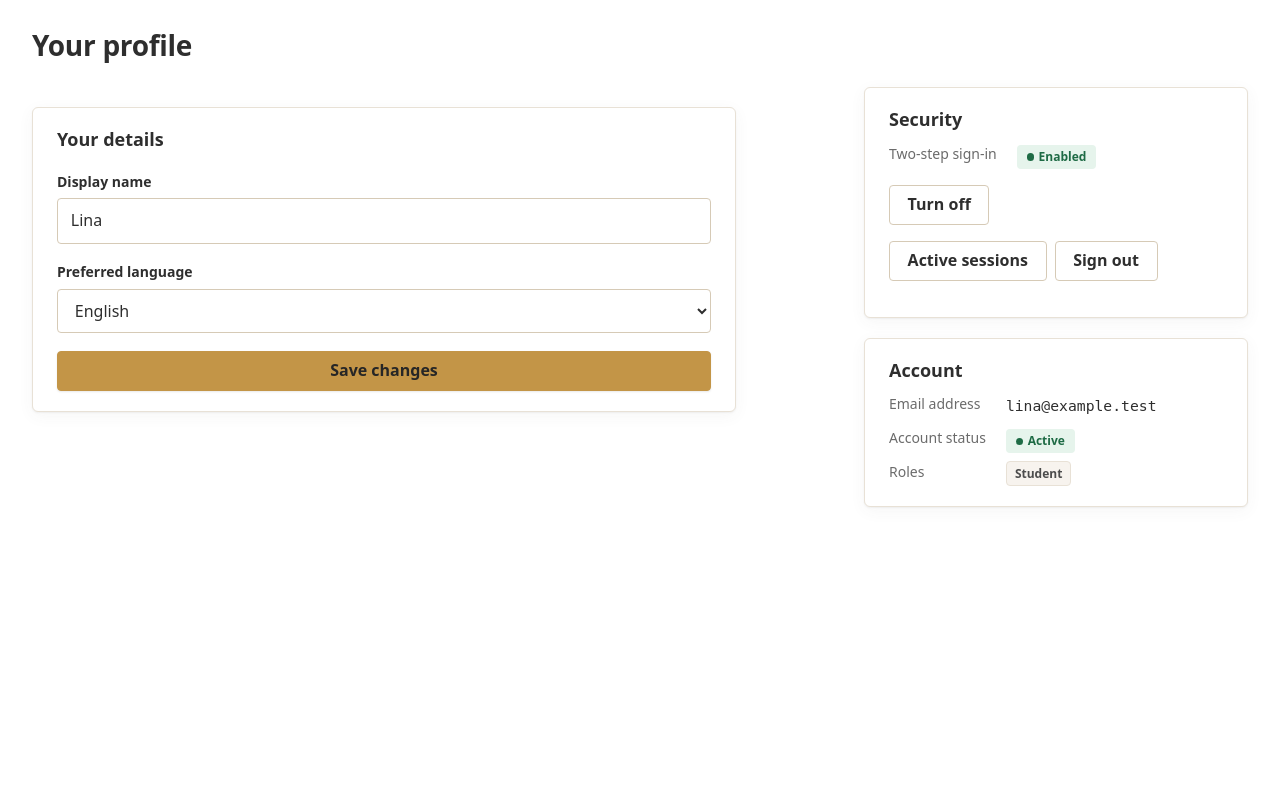
Test case: turning off two-step sign-in › still says it worked when the re-read fails, without guessing the state
Click the button with aria-label "Turn off two-step sign-in": (939, 205) [889,185,989,225]
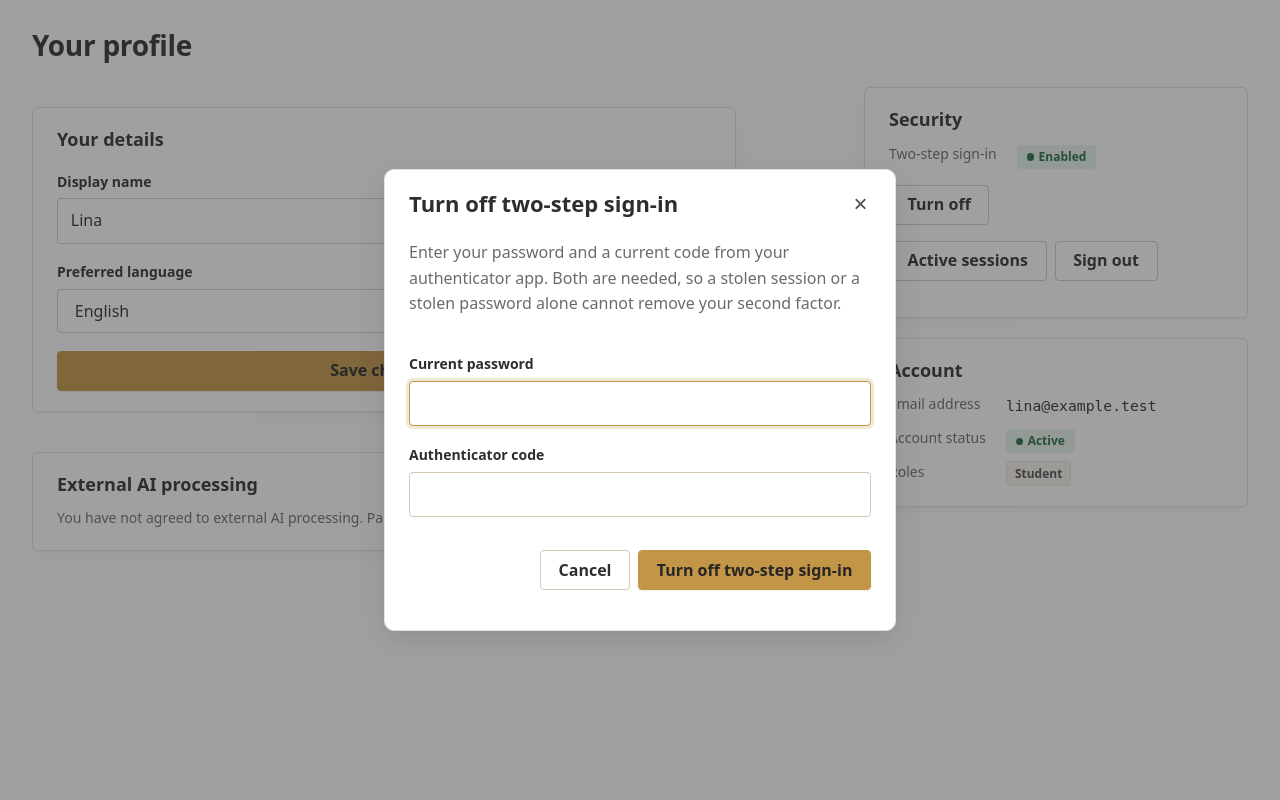
In the password field labelled "Current password": (640, 403) [409,381,871,426], type "my password"
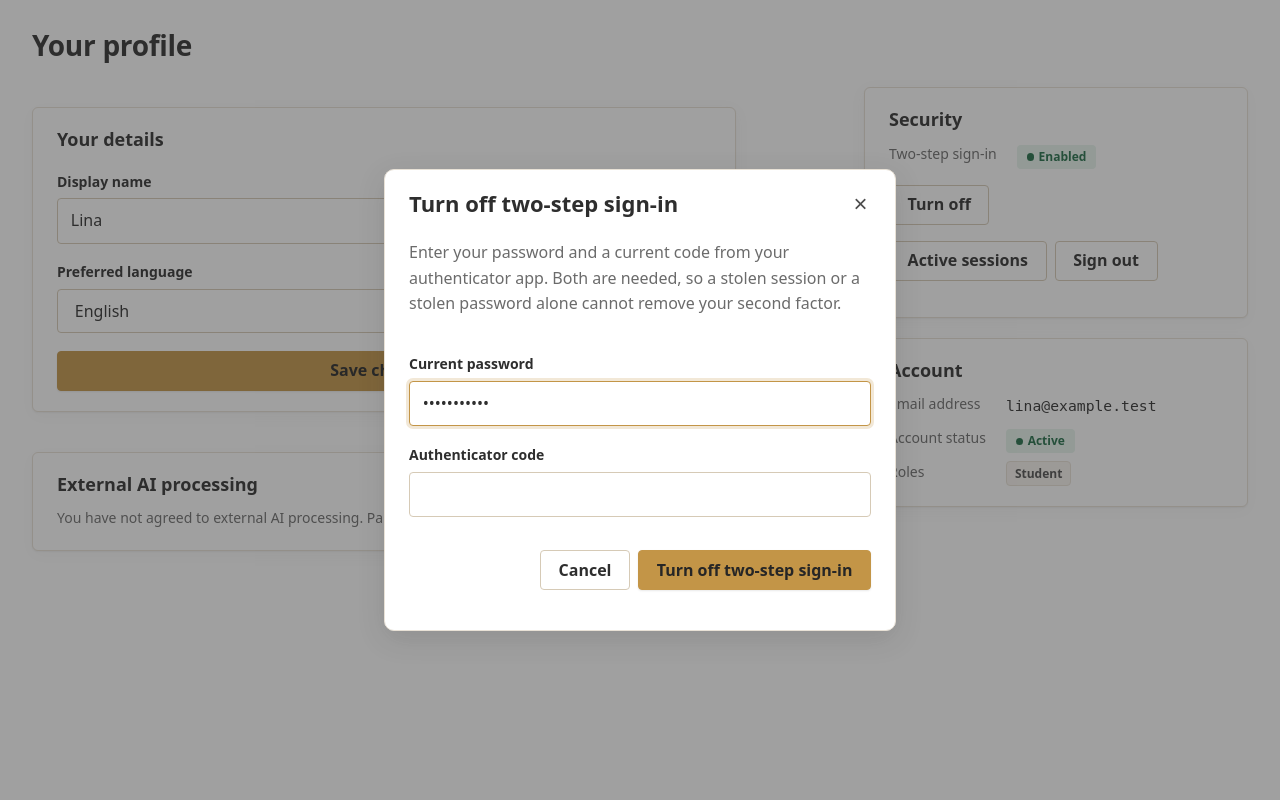
In the field labelled "Authenticator code": (640, 494) [409,472,871,517], type "123456"
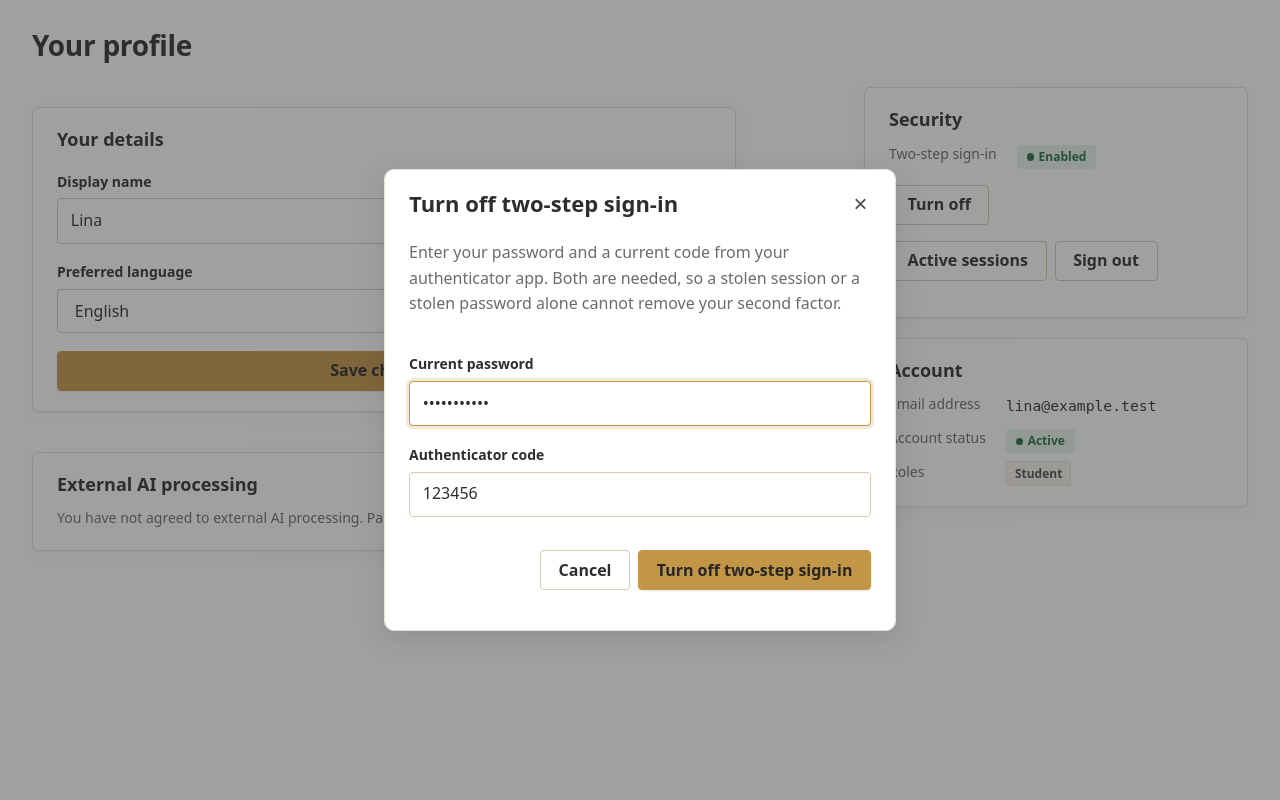
Click the button "Turn off two-step sign-in": (755, 570) [638,550,871,590]
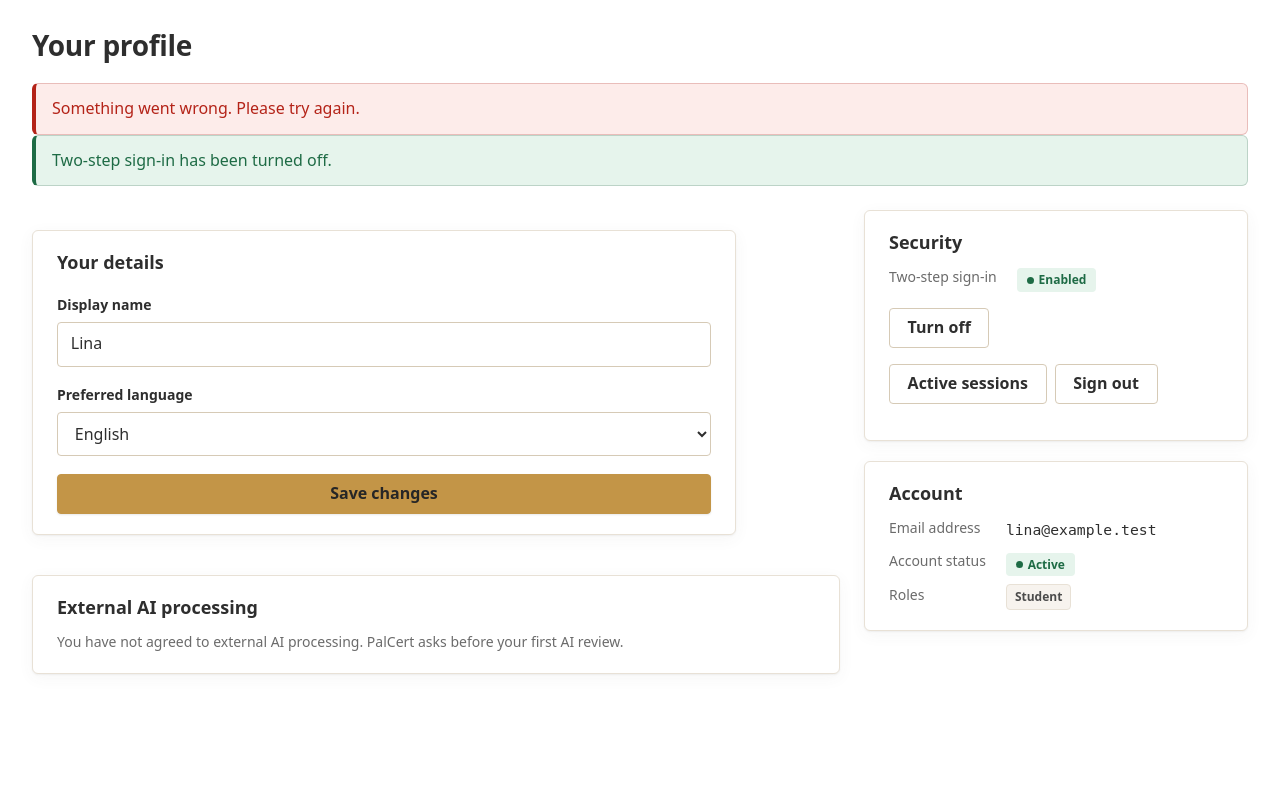
Result: the message "Two-step sign-in has been turned off." is shown at [32,135,1248,186]
Result: the message "Something went wrong. Please try again." is shown at [32,83,1248,135]
